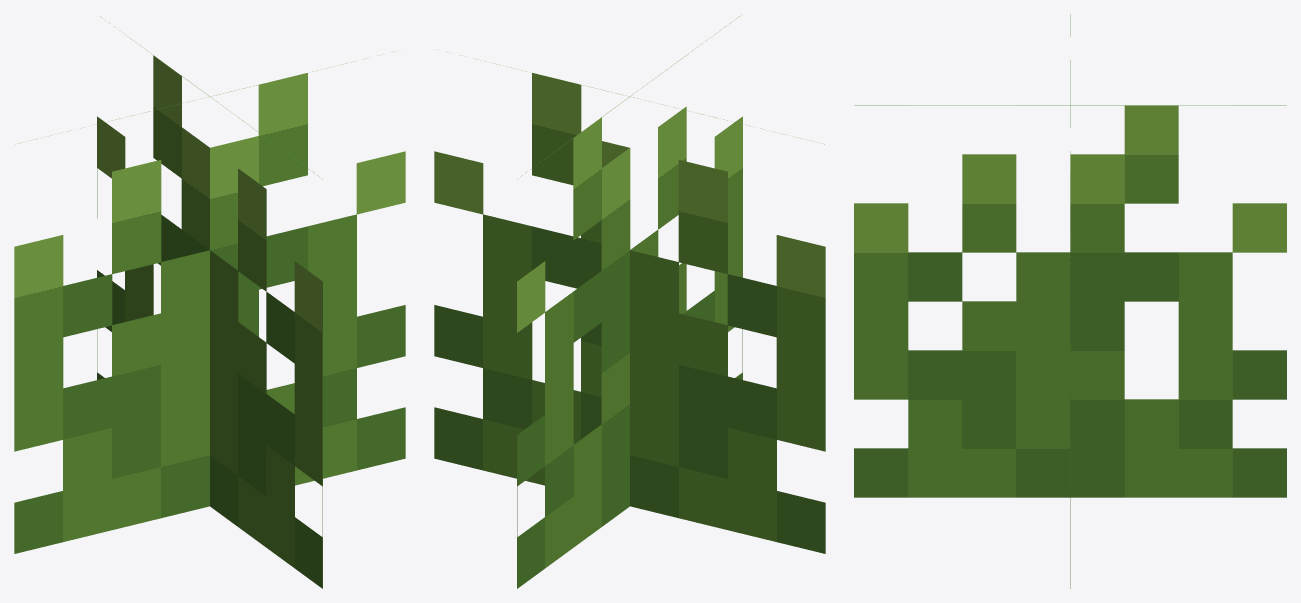
Rendered from Grass_1.fbx.
The picture shows the model from 3 angles, left to right: view 1: azimuth 30°, elevation 25°; view 2: azimuth 150°, elevation 25°; view 3: azimuth 270°, elevation 25°; orthographic projection. The views are drawn at different scales.
Visible parts, largest first — view 1: Cube.760; view 2: Cube.760; view 3: Cube.760.
Part boxes in pixels (x1,y1,x2,y2): Cube.760: [14, 16, 405, 588]; Cube.760: [434, 16, 825, 588]; Cube.760: [854, 14, 1286, 588].
Bounding box in the file's own units: 200 × 200 × 200.
Materials: 1 (1 with a texture image).
